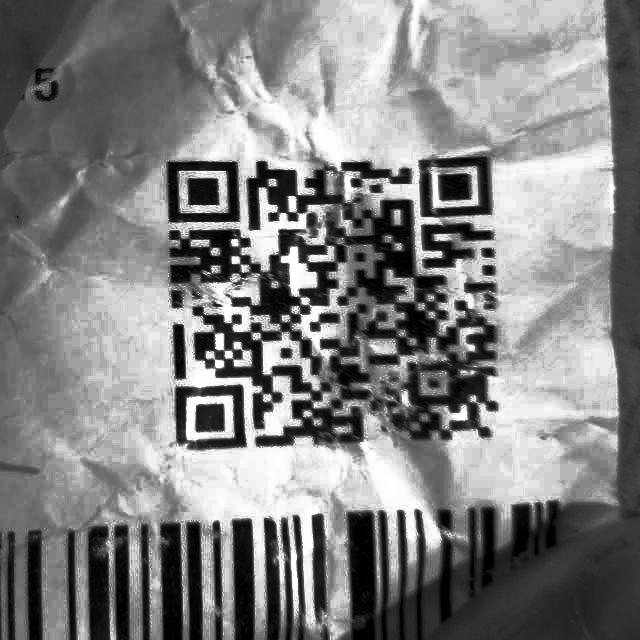qr_code: (144, 132, 509, 466)
